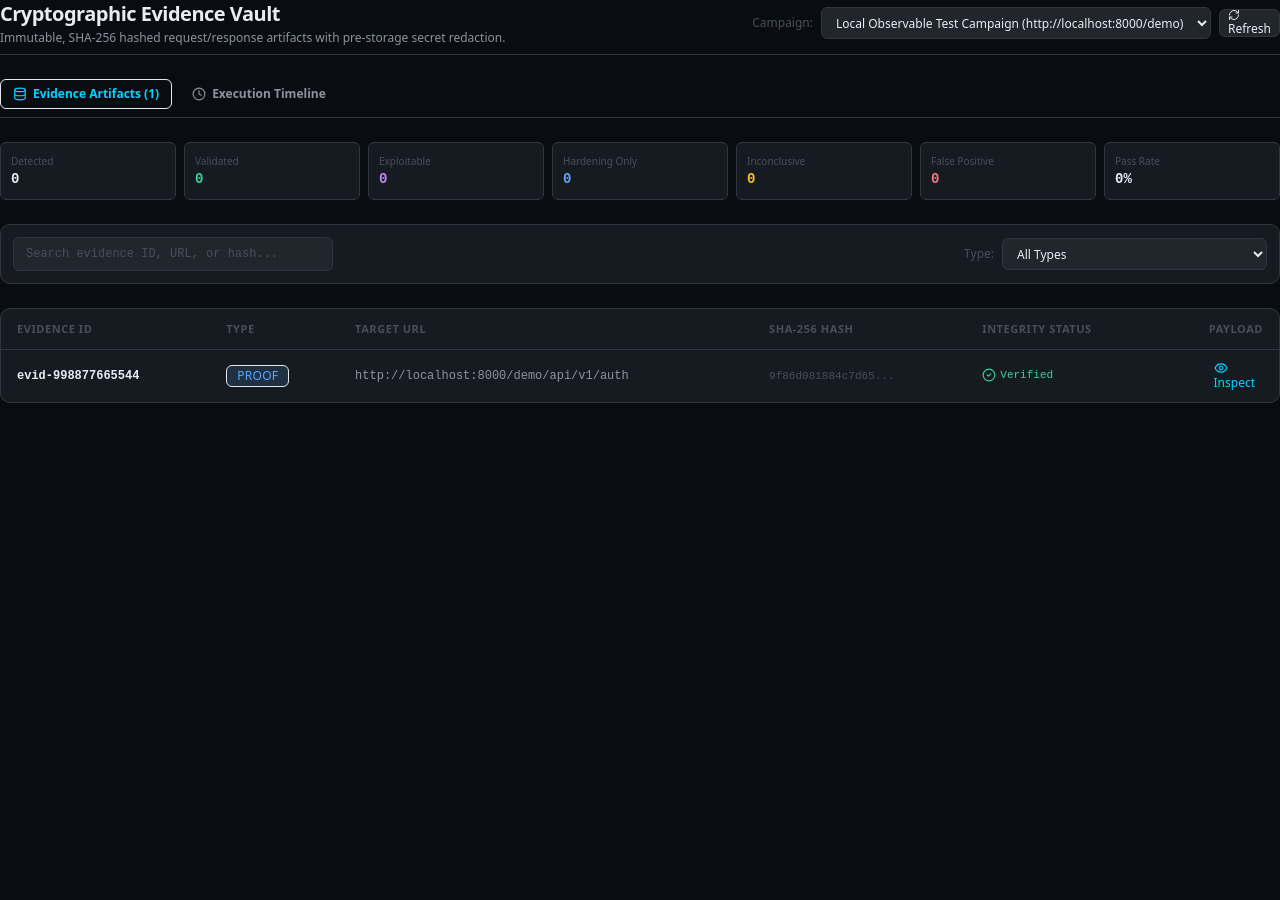
Evidence Visibility & Execution Transparency Gate (Frontend) › [Proof Flow 1] parses wrapped API response, renders evidence table, opens detail, and displays SHA-256 hash
Expected: the text "evid-998877665544" is shown, [1,350,210,402]
Expected: the text "http://localhost:8000/demo/api/v1/auth" is shown, [339,350,753,402]
Note: Click to open Evidence Detail Modal
Click the button with aria-label "view" at [1234, 376], box [1206,362,1263,390]
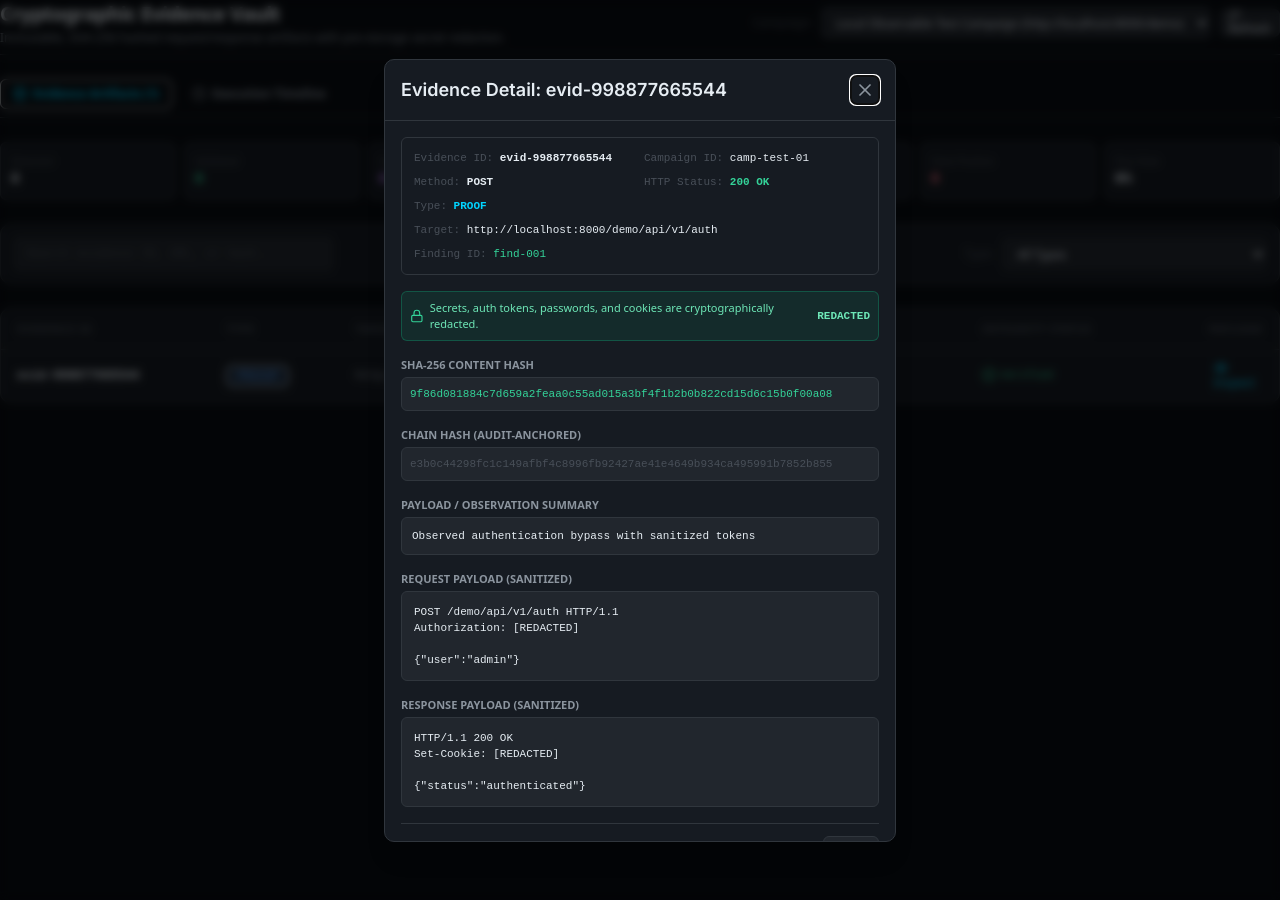
Result: the text "9f86d081884c7d659a2feaa0c55ad015a3bf4f1b2b0b822cd15d6c15b0f00a08" is shown at [401,376,879,410]
Result: the text "REDACTED" is shown at [817,308,870,324]
